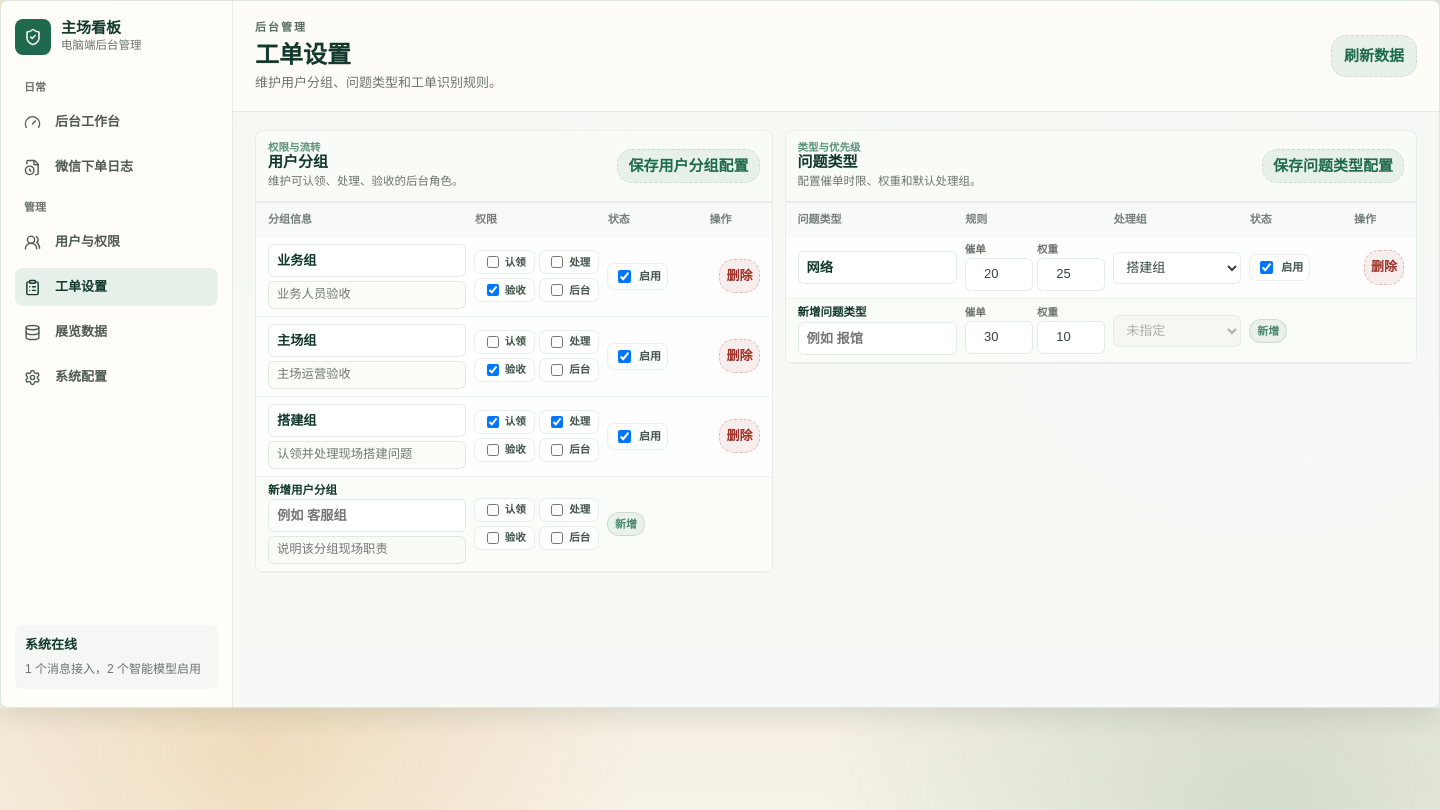
AdminConfigCenter user groups › queues feedback toasts
Clear the field named "网络名称" at [877, 268], box [798,251,957,284]
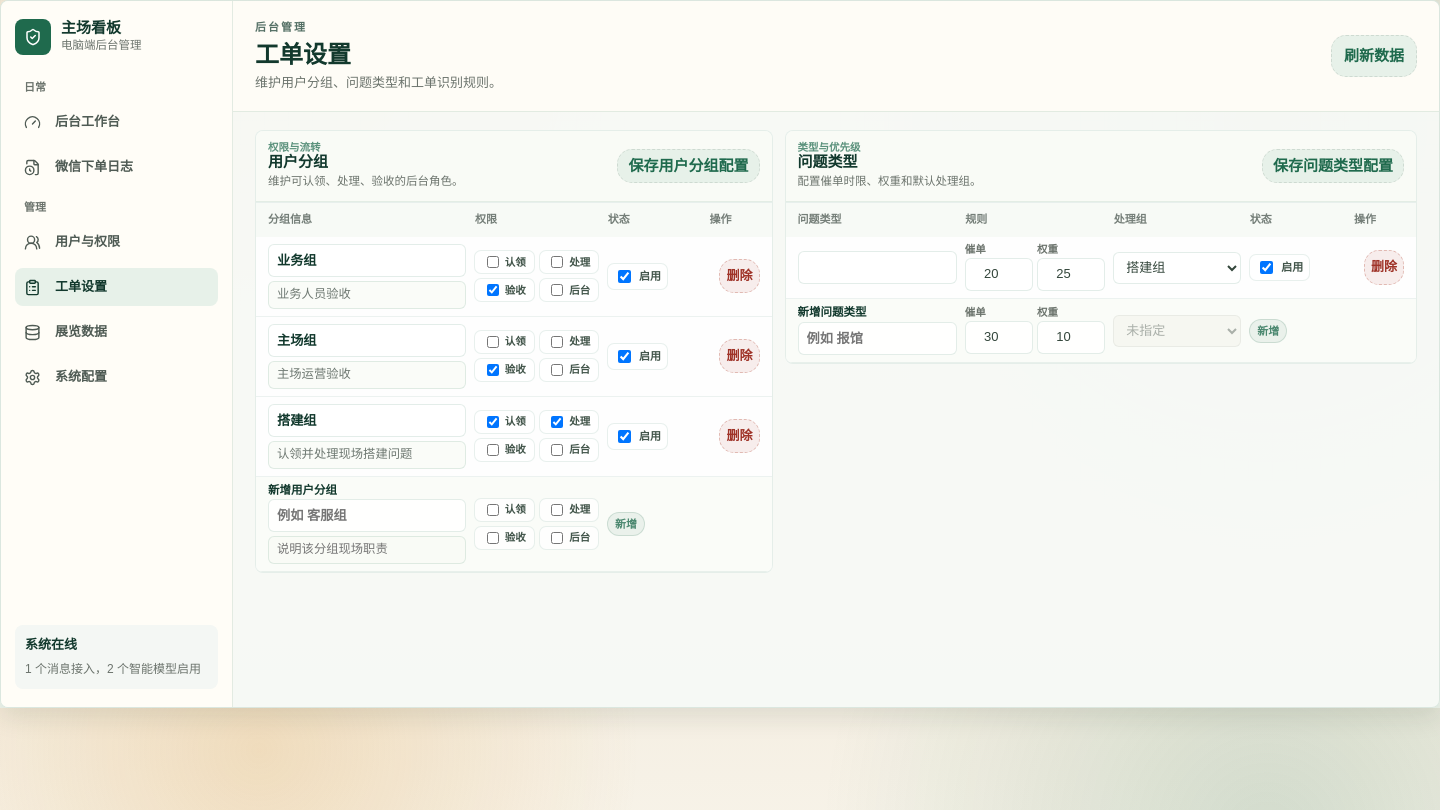
Click the button "保存问题类型配置" at [1333, 166], box [1262,149,1404,183]
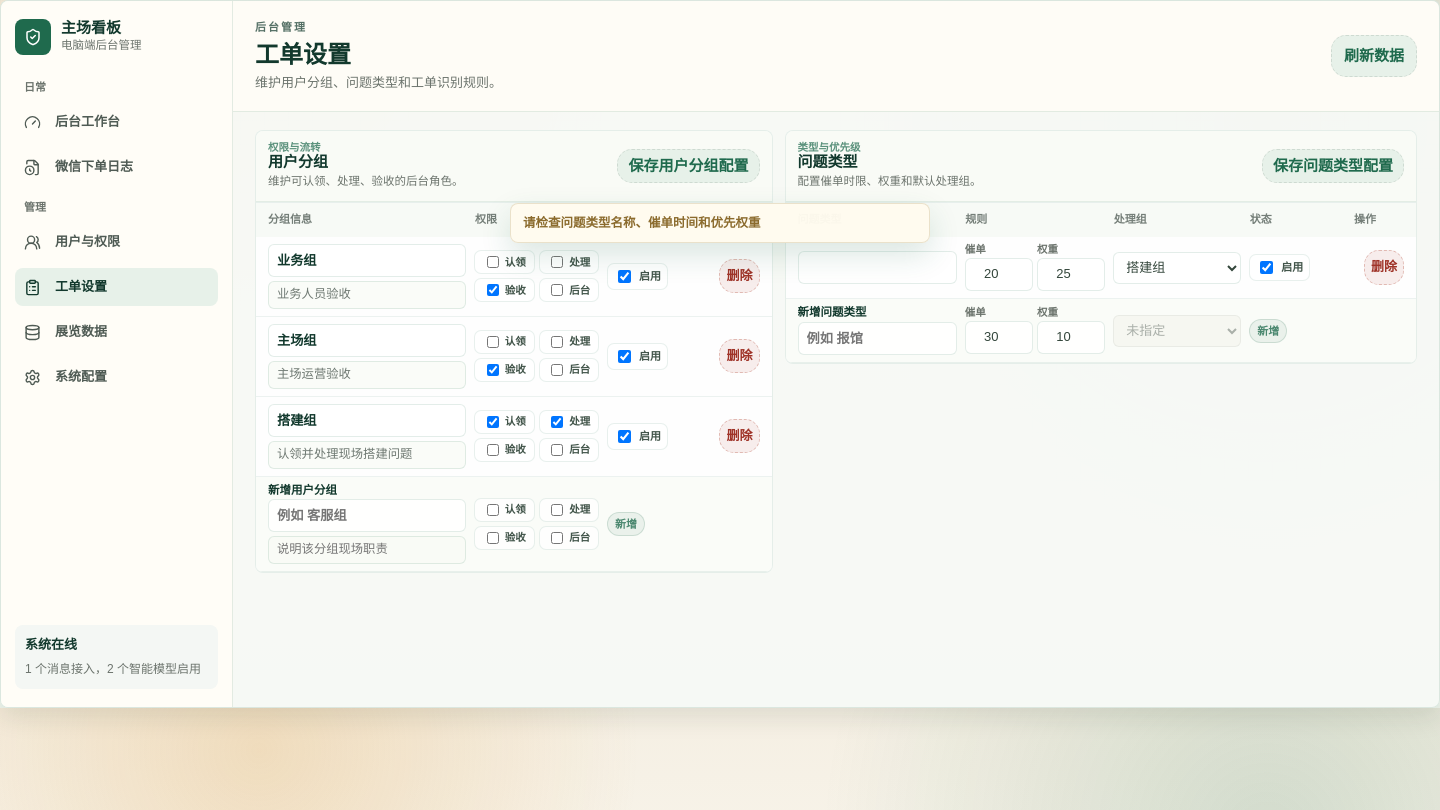
Clear the field named "业务组名称" at [367, 260], box [268,244,466,277]
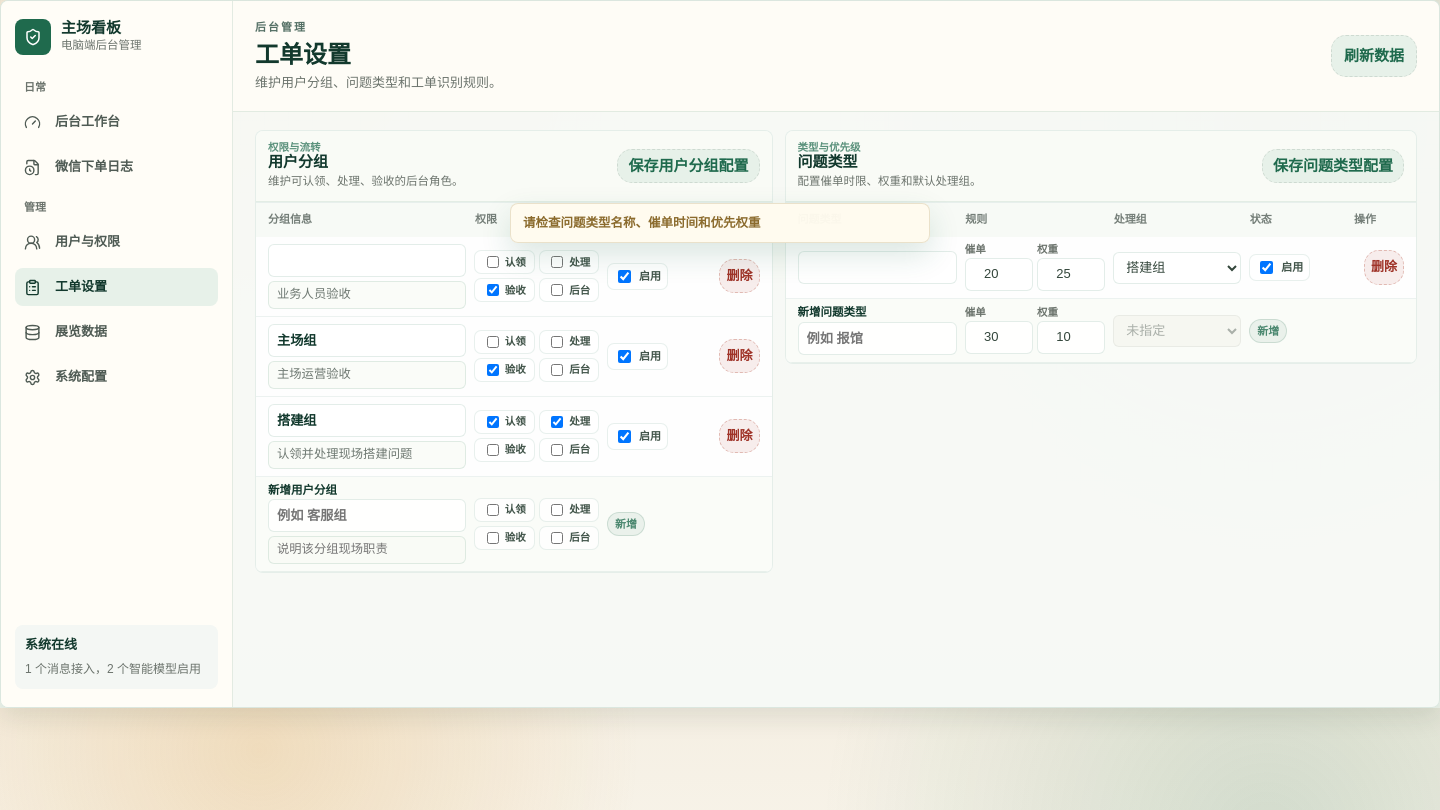
Click the button "保存用户分组配置" at [688, 166], box [618,149,760,183]
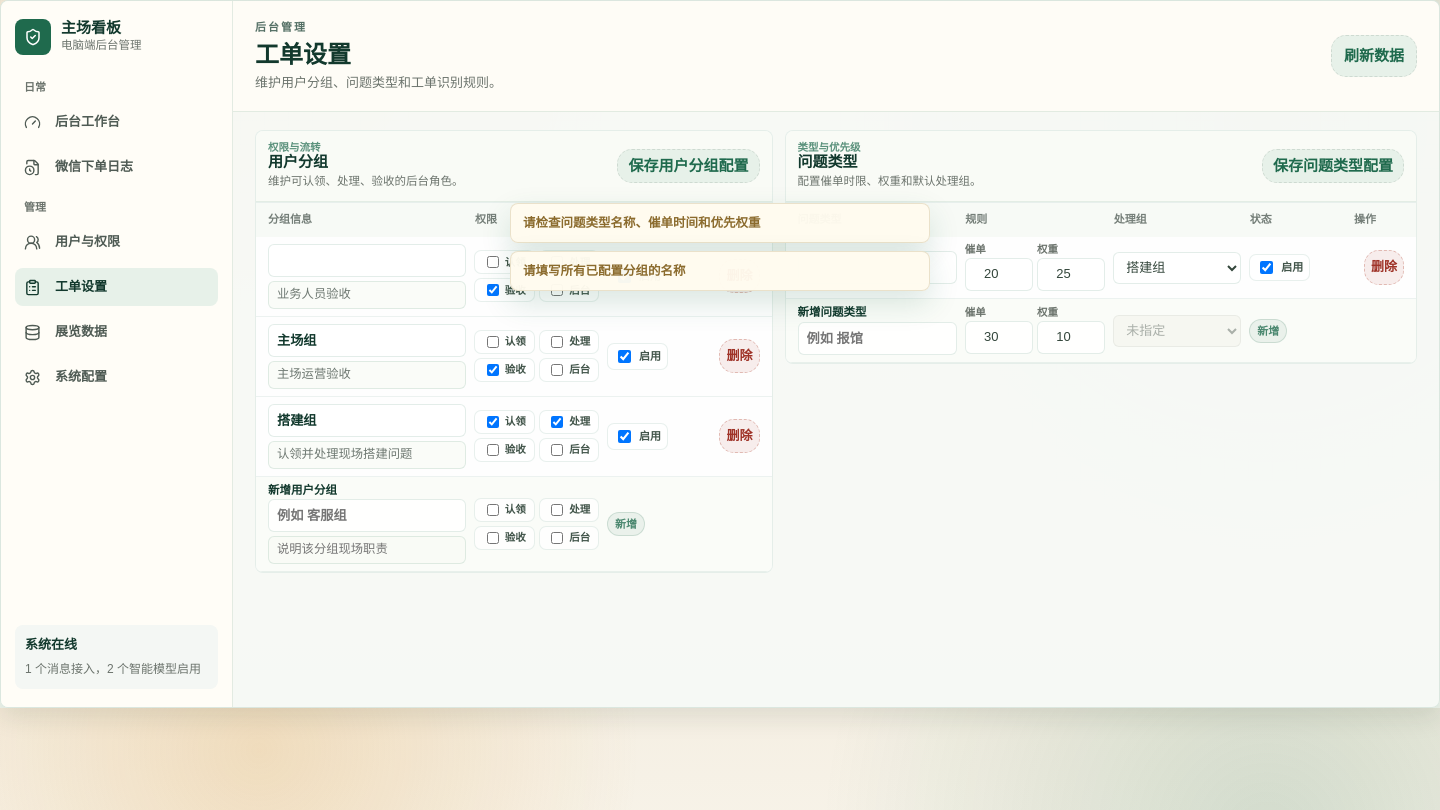
Result: the messages read "请检查问题类型名称、催单时间和优先权重", "请填写所有已配置分组的名称", in this order at [510,202,930,243]; [510,251,930,291]
